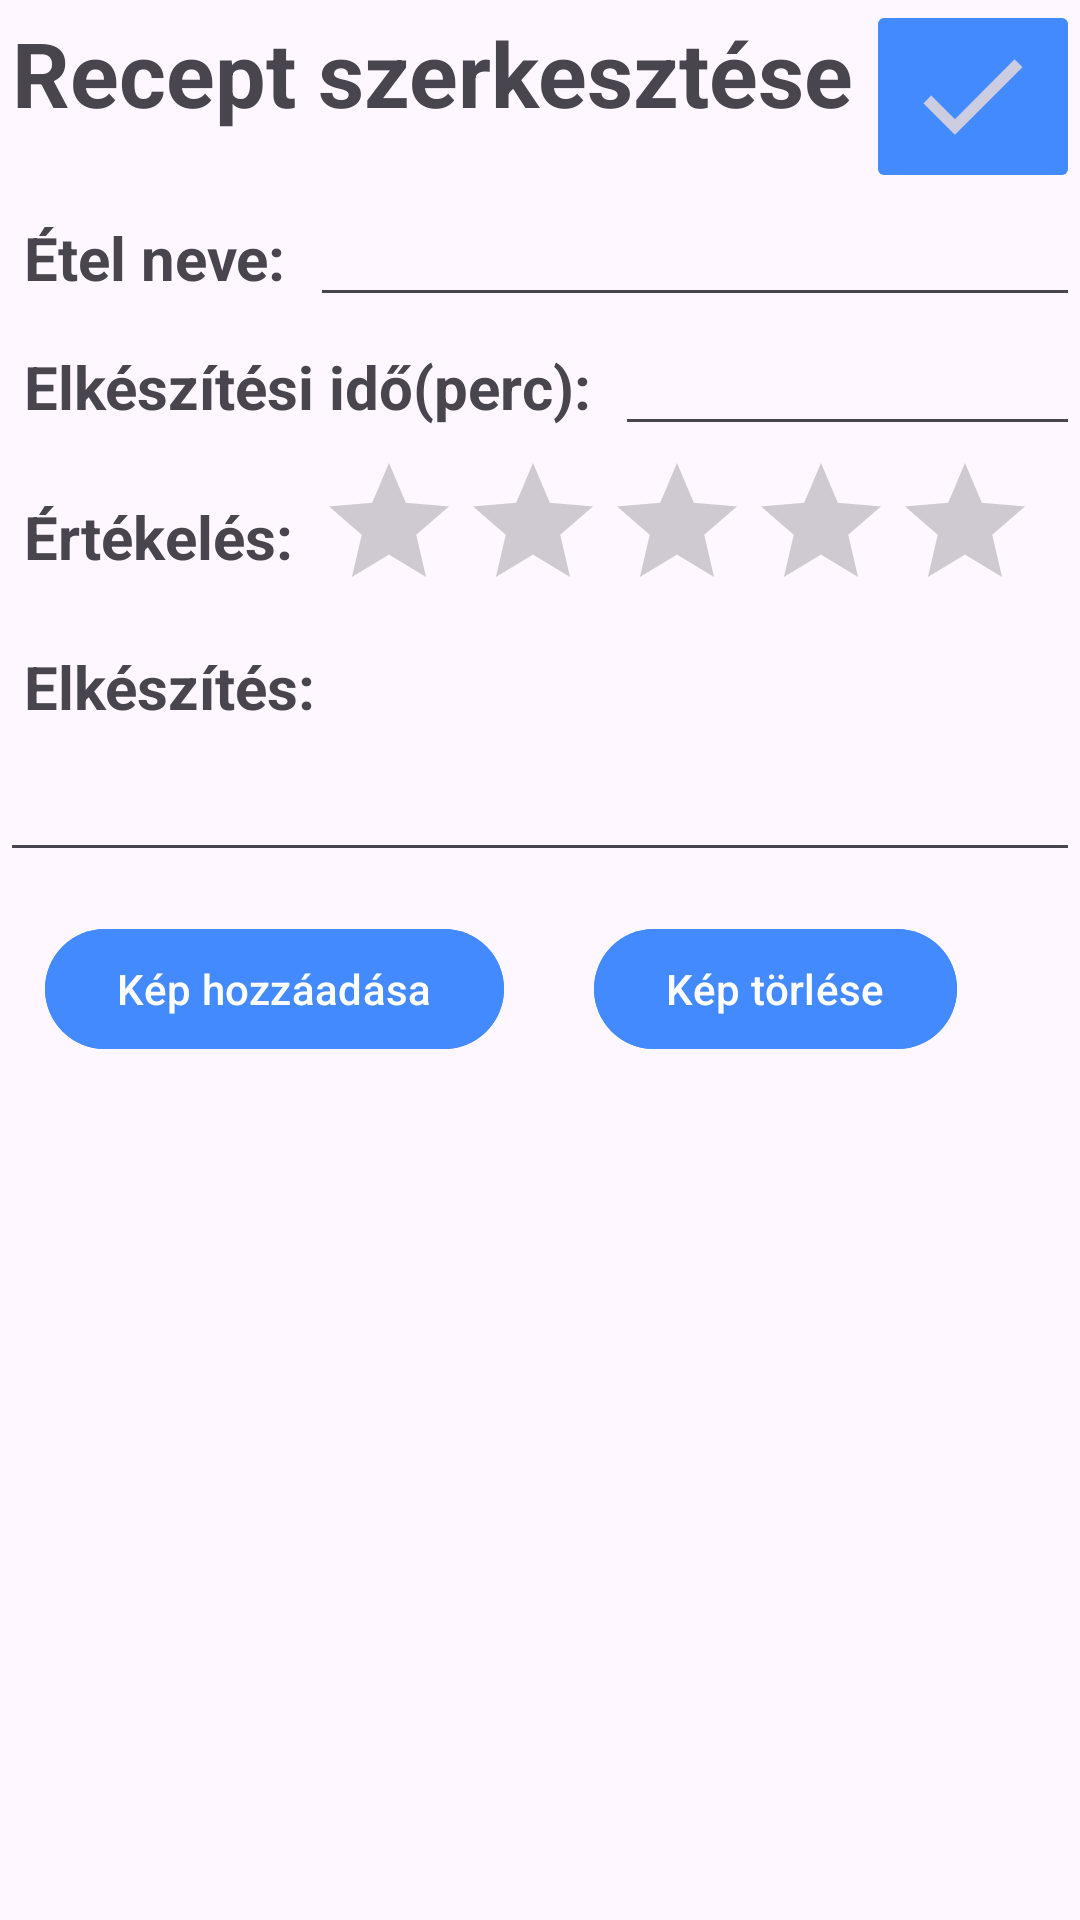

Screen size 1080w x 1920h. Icon name, then its box in pixels as [x1, y1, x2, y2]:
done: [878, 18, 1068, 175]
